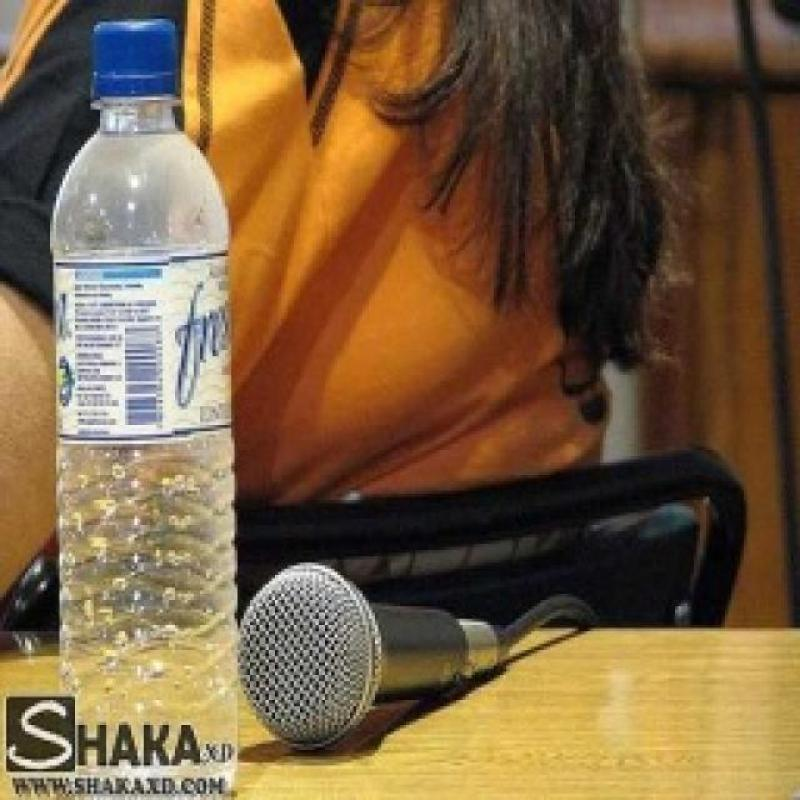botella: (49, 19, 236, 800)
